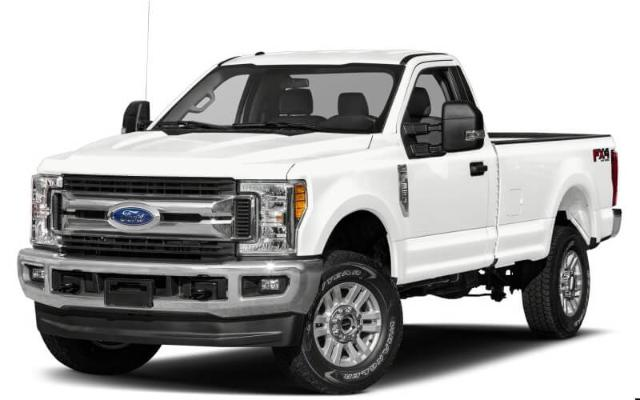pickup-truck: (18, 48, 623, 393)
